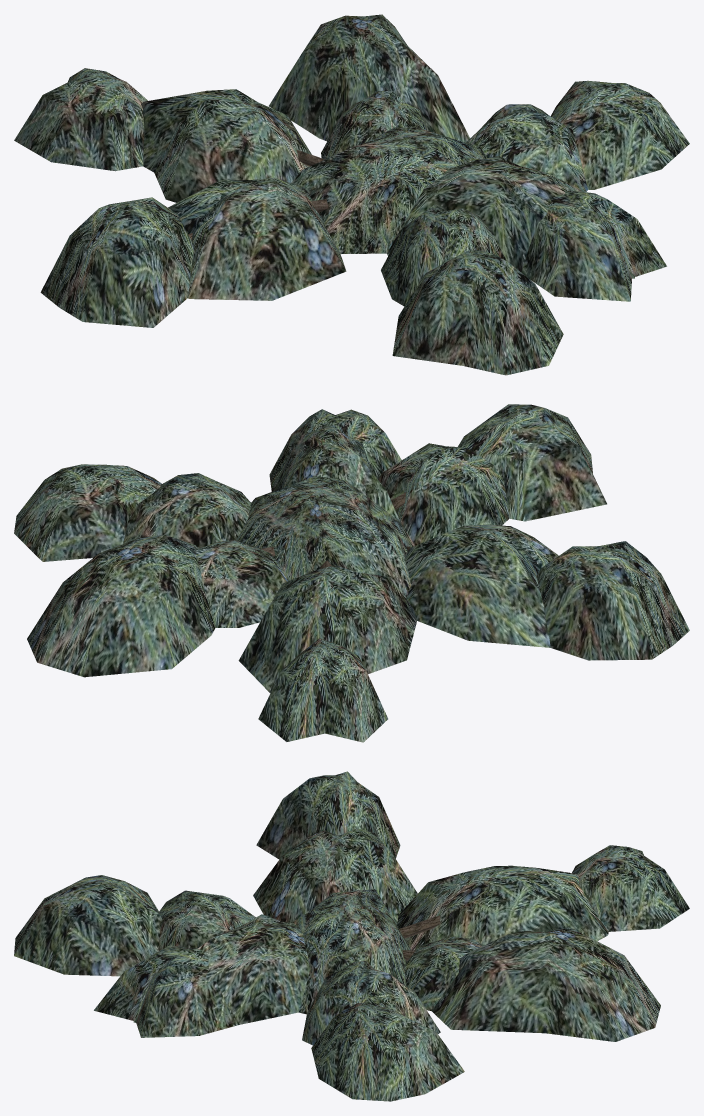
Rendered from veg_juniper.glb.
3 views of the same model, one above another, from view 1: azimuth 30°, elevation 25°; view 2: azimuth 150°, elevation 25°; view 3: azimuth 270°, elevation 25° (orthographic). The views are drawn at different scales.
Parts seen in each view (by area): view 1: veg_juniper; view 2: veg_juniper; view 3: veg_juniper.
Part boxes in pixels (x1,y1,x2,y2): veg_juniper: (14, 14, 689, 375); veg_juniper: (14, 404, 689, 742); veg_juniper: (14, 771, 689, 1101).
Size of the model in its own units: 1.99 by 0.2566 by 2.04.
1 material, 1 textured.
